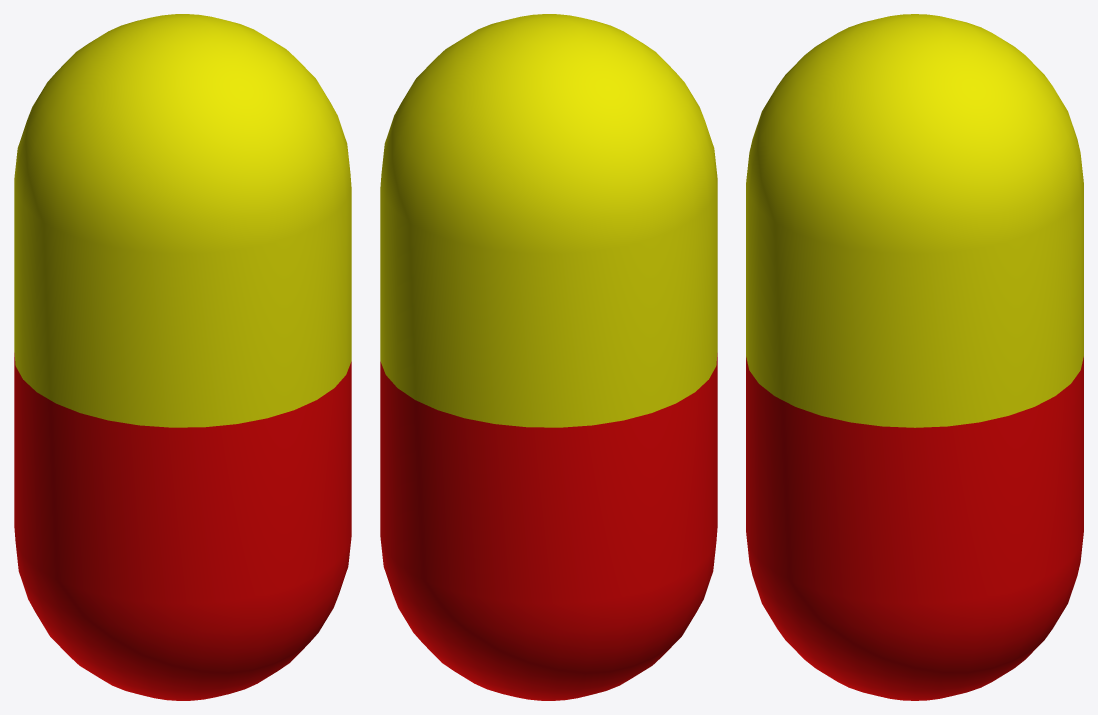
Rendered from red_yellow_capsule.fbx.
The picture shows the model from 3 angles, left to right: view 1: azimuth 30°, elevation 25°; view 2: azimuth 150°, elevation 25°; view 3: azimuth 270°, elevation 25°; orthographic projection.
Parts seen in each view (by area): view 1: Sphere; view 2: Sphere; view 3: Sphere.
Part boxes in pixels (x1,y1,x2,y2): Sphere: (14,14,351,700); Sphere: (380,14,717,700); Sphere: (746,14,1083,700).
Bounding box in the file's own units: 200 × 428 × 200.
